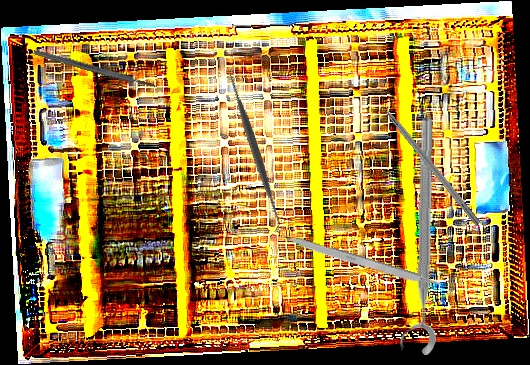Fixation Ring: (396, 117, 441, 356)
Hook Surgical: (371, 91, 483, 227)
Scalpel Handle: (282, 233, 444, 292), (32, 48, 157, 90)
Spatula Surgical: (169, 64, 340, 234)
